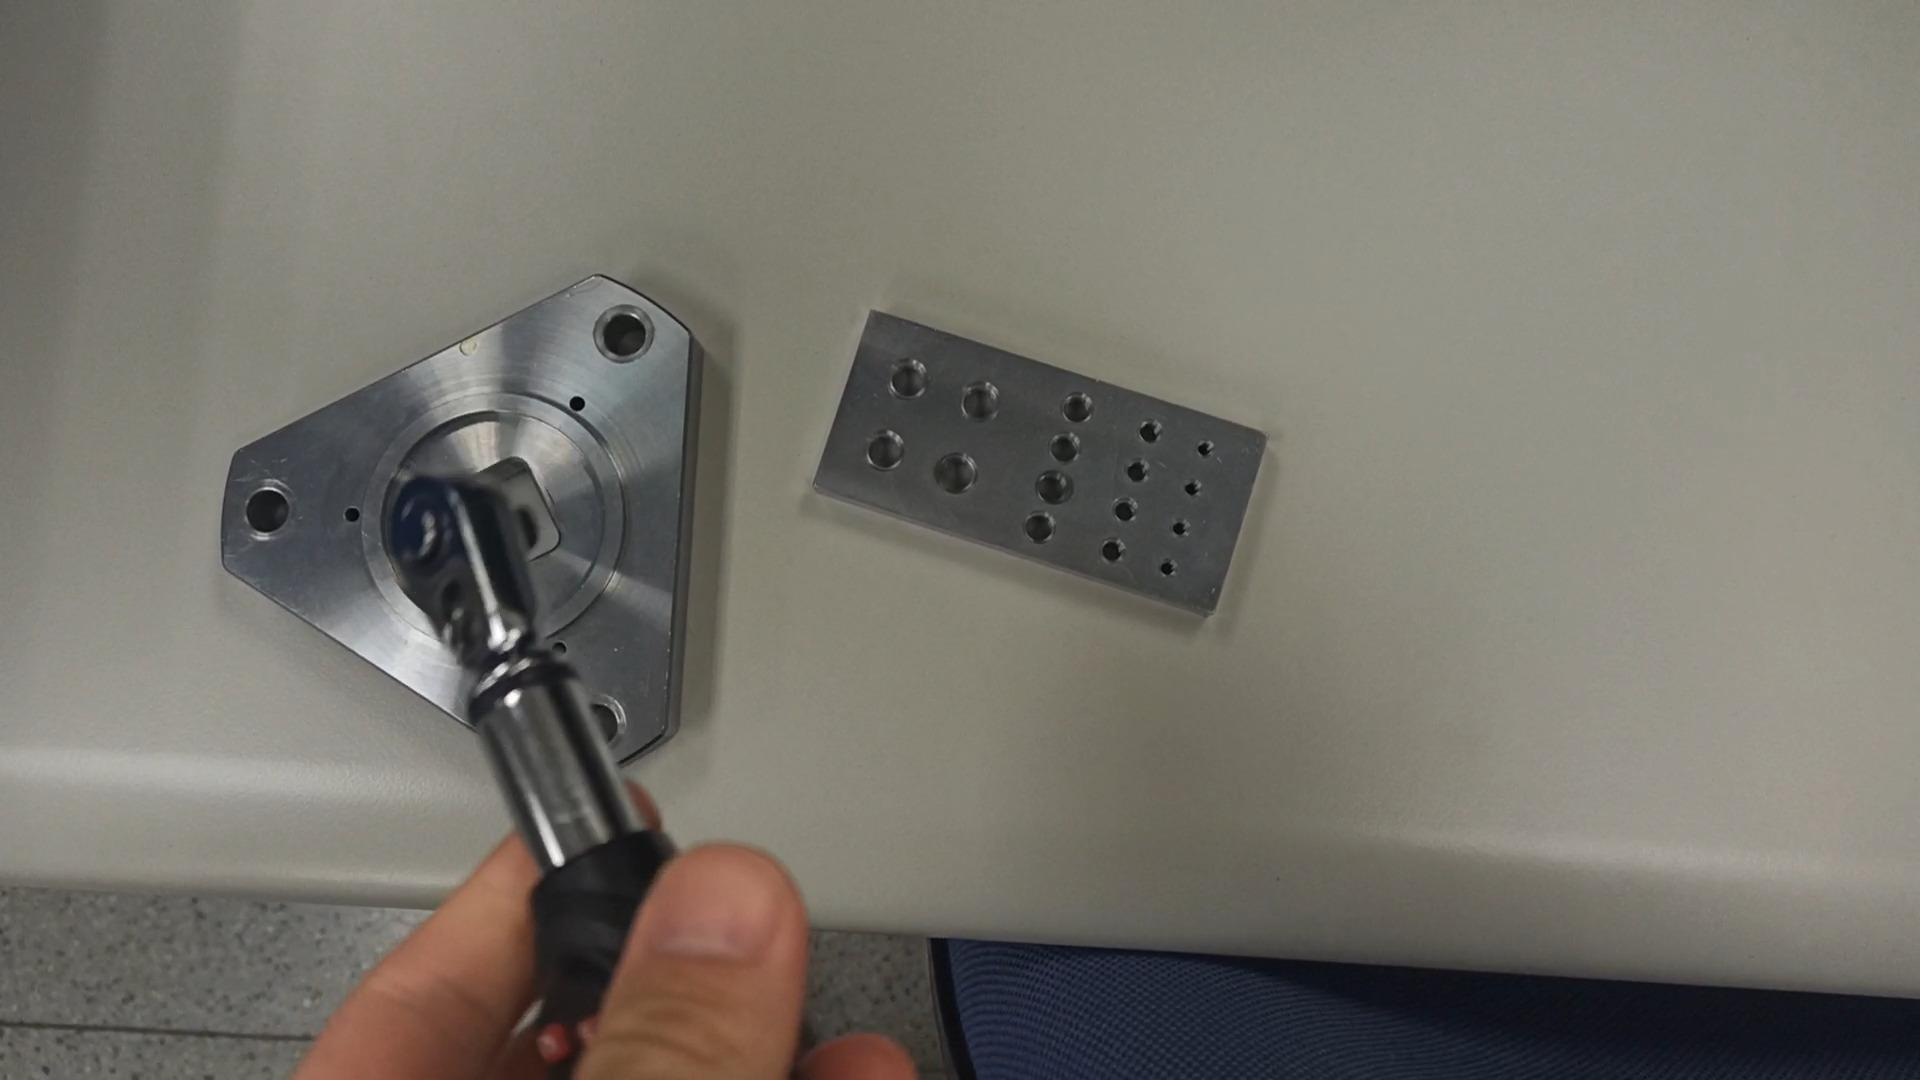Tool: (392, 477, 554, 679)
hole: (589, 305, 655, 368), (237, 481, 293, 543), (930, 448, 980, 497), (953, 378, 1001, 429), (886, 359, 932, 406), (868, 427, 914, 475), (587, 695, 626, 750), (1033, 471, 1076, 512), (1048, 430, 1085, 467), (1058, 389, 1095, 425), (1022, 510, 1056, 547), (1100, 538, 1130, 568), (1135, 419, 1164, 451), (1112, 497, 1141, 529), (1122, 456, 1151, 487), (1197, 439, 1222, 464), (1153, 556, 1178, 582), (1172, 517, 1195, 541), (1184, 480, 1207, 504)
